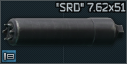SIG Sauer SRD762Ti 7.62x51 sound suppressor: (0, 0, 127, 64)
